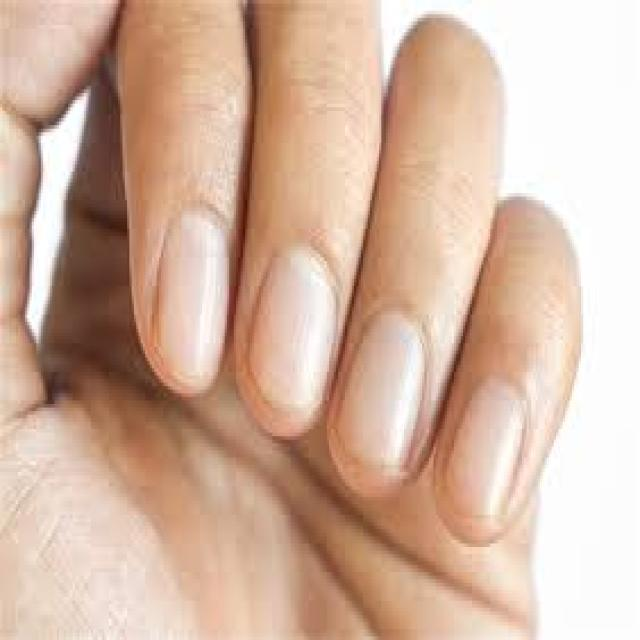Fingernail: (250, 248, 338, 411), (341, 315, 425, 469), (157, 210, 229, 386), (449, 381, 526, 524)
